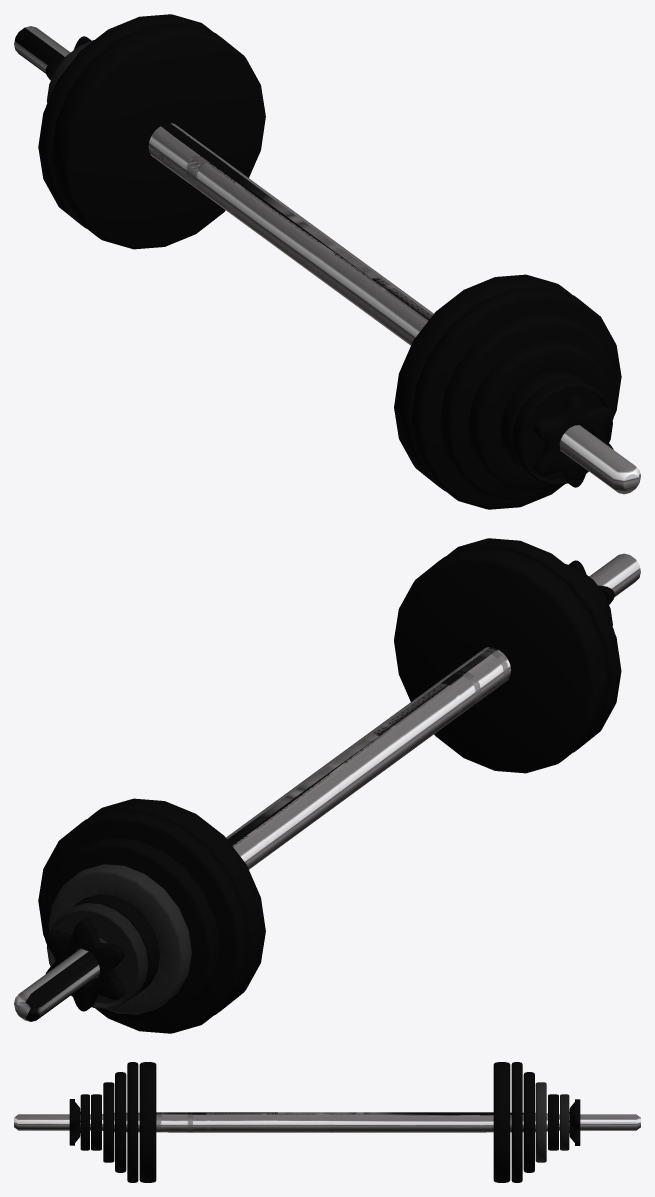
File: barra.obj
3 renders of one model, top to bottom at view 1: azimuth 30°, elevation 25°; view 2: azimuth 150°, elevation 25°; view 3: azimuth 270°, elevation 25°, orthographic. The views are drawn at different scales.
Visible parts, largest first — view 1: Barra barra:Cylinder012, Barra barra:Cylinder001, Barra barra:Cylinder022, barra:Cylinder024 Barra, Barra barra:Cylinder019, Barra barra:Cylinder023, Barra barra:Cylinder021, Barra barra:Cylinder011, Barra barra:Star003, Barra barra:Cylinder020; view 2: Barra barra:Cylinder023, Barra barra:Cylinder001, Barra barra:Cylinder011, Barra barra:Cylinder002, Barra barra:Cylinder004, Barra barra:Cylinder012, Barra barra:Cylinder006, Barra barra:Cylinder022, Barra barra:Star001, Barra barra:Cylinder005; view 3: Barra barra:Cylinder001, Barra barra:Cylinder012, Barra barra:Cylinder023, Barra barra:Cylinder022, Barra barra:Cylinder011, barra:Cylinder024 Barra, Barra barra:Cylinder002, Barra barra:Cylinder019, Barra barra:Cylinder004, Barra barra:Cylinder005, Barra barra:Cylinder020, Barra barra:Cylinder021 (+3 smaller).
Boxes of the visible parts, bbox=[...] form: Barra barra:Cylinder012: bbox=[51, 23, 265, 249]; Barra barra:Cylinder001: bbox=[14, 26, 640, 494]; Barra barra:Cylinder022: bbox=[411, 287, 621, 509]; barra:Cylinder024 Barra: bbox=[439, 313, 616, 500]; Barra barra:Cylinder019: bbox=[468, 340, 611, 490]; Barra barra:Cylinder023: bbox=[394, 274, 571, 491]; Barra barra:Cylinder021: bbox=[511, 379, 612, 485]; Barra barra:Cylinder011: bbox=[38, 14, 213, 228]; Barra barra:Star003: bbox=[534, 394, 614, 487]; Barra barra:Cylinder020: bbox=[500, 370, 586, 473]; Barra barra:Cylinder023: bbox=[394, 547, 608, 773]; Barra barra:Cylinder001: bbox=[14, 553, 640, 1021]; Barra barra:Cylinder011: bbox=[38, 811, 248, 1033]; Barra barra:Cylinder002: bbox=[43, 837, 220, 1024]; Barra barra:Cylinder004: bbox=[48, 864, 191, 1014]; Barra barra:Cylinder012: bbox=[88, 798, 265, 1015]; Barra barra:Cylinder006: bbox=[47, 903, 148, 1009]; Barra barra:Cylinder022: bbox=[447, 538, 621, 752]; Barra barra:Star001: bbox=[45, 918, 124, 1011]; Barra barra:Cylinder005: bbox=[73, 894, 159, 996]; Barra barra:Cylinder001: bbox=[14, 1112, 640, 1132]; Barra barra:Cylinder012: bbox=[493, 1062, 510, 1182]; Barra barra:Cylinder023: bbox=[139, 1062, 156, 1182]; Barra barra:Cylinder022: bbox=[127, 1062, 138, 1182]; Barra barra:Cylinder011: bbox=[511, 1062, 522, 1182]; barra:Cylinder024 Barra: bbox=[115, 1072, 126, 1172]; Barra barra:Cylinder002: bbox=[523, 1072, 534, 1172]; Barra barra:Cylinder019: bbox=[103, 1082, 114, 1162]; Barra barra:Cylinder004: bbox=[535, 1082, 546, 1162]; Barra barra:Cylinder005: bbox=[548, 1094, 558, 1150]; Barra barra:Cylinder020: bbox=[91, 1094, 101, 1150]; Barra barra:Cylinder021: bbox=[80, 1094, 89, 1150].
Bounding box in the file's own units: 1.79 × 1.79 × 9.23.
